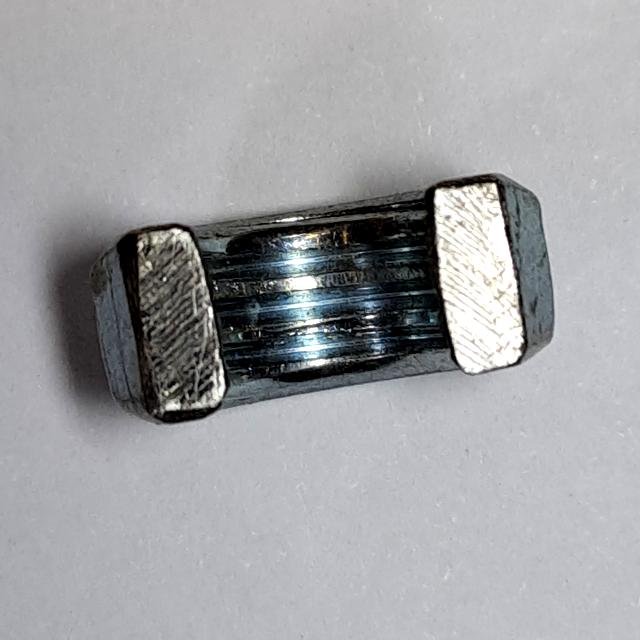Side-Fracture: (70, 145, 575, 445)
